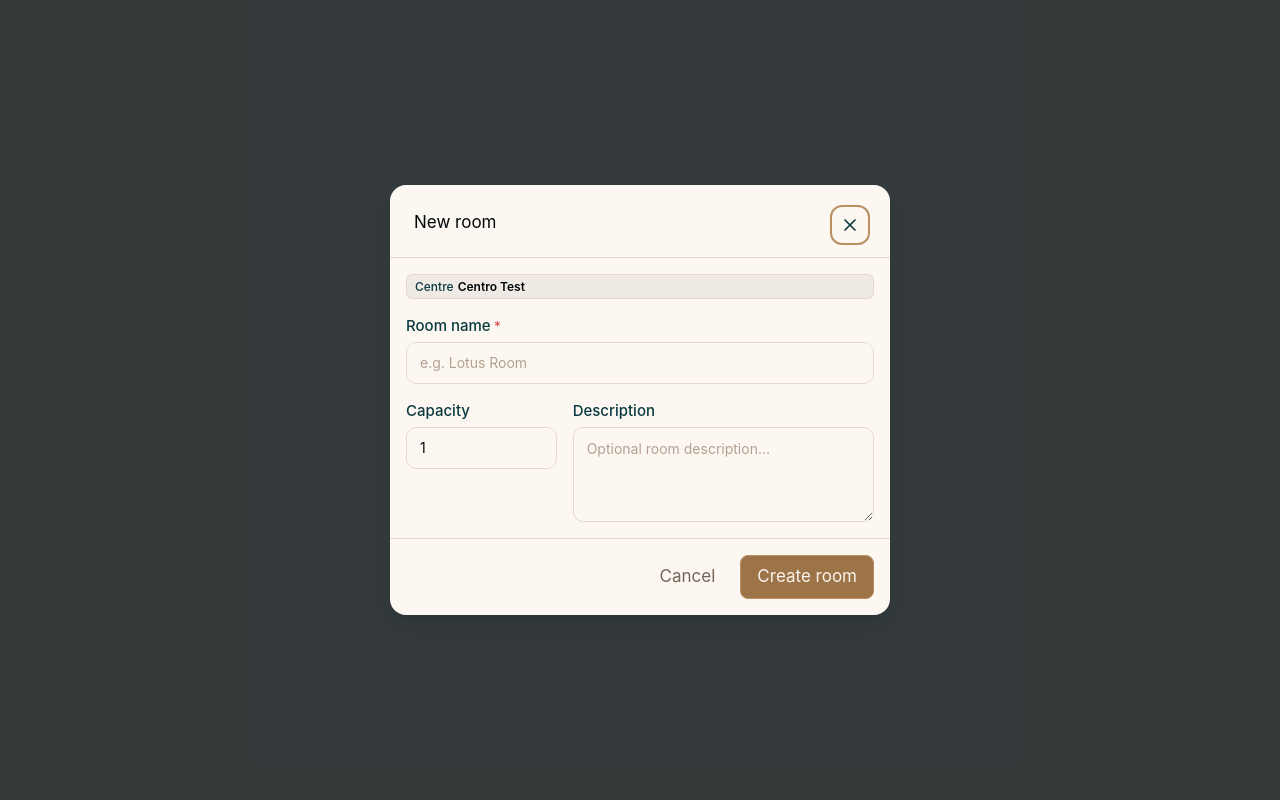
it: SalaModal — create submission › shows error banner when createMutation throws
The image size is (1280, 800).
Type "Room A" into the field labelled "Room name".
click(640, 363); type("Room A")  # box x1=406 y1=342 x2=874 y2=384
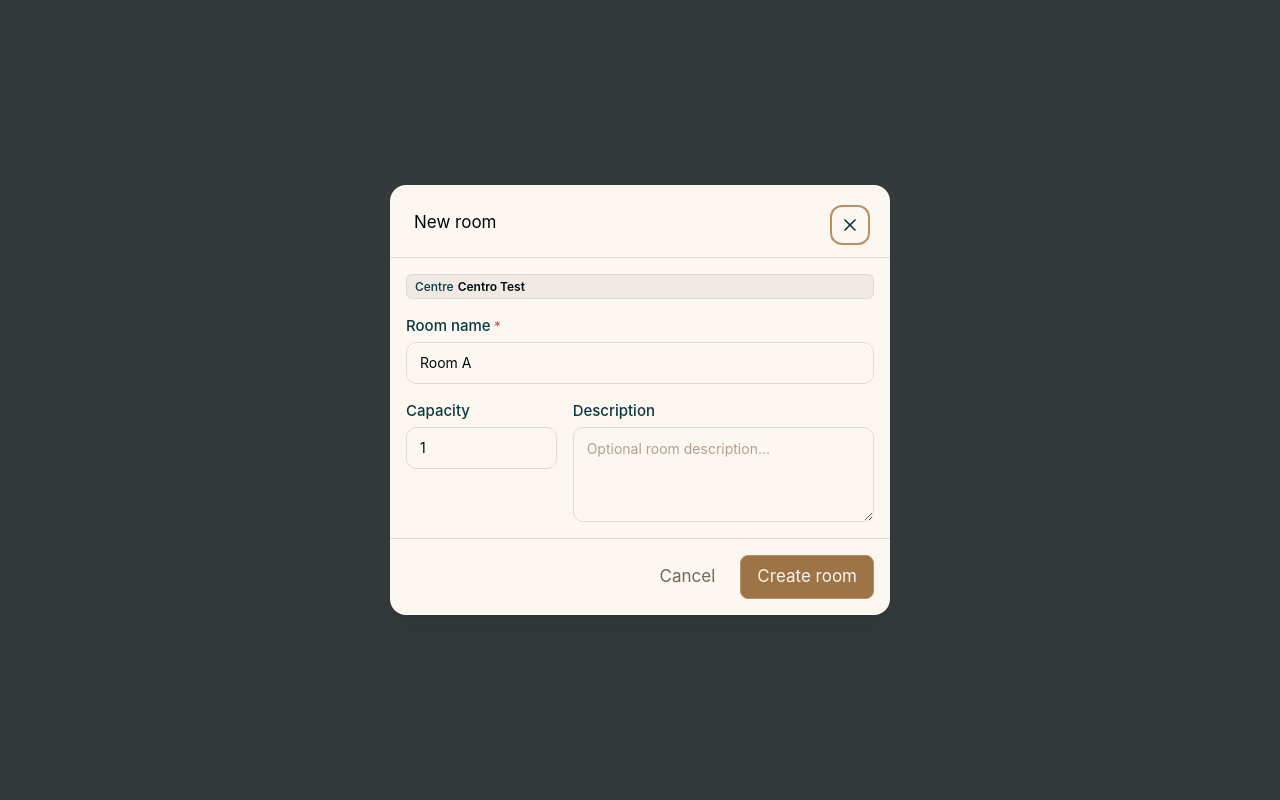
Click the button "Create room".
click(807, 577)  # box x1=740 y1=555 x2=874 y2=599
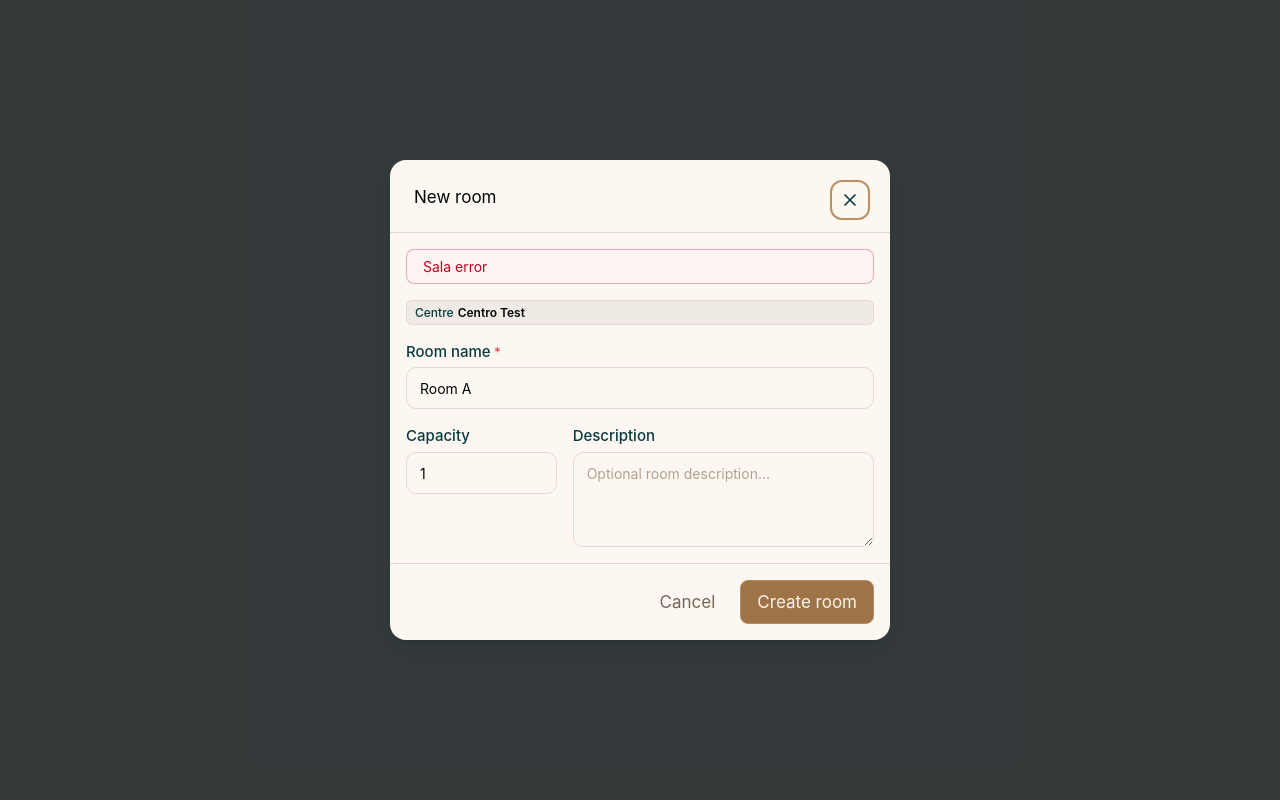
expect the message "Sala error" is shown: met, box x1=406 y1=249 x2=874 y2=284
expect the message reads "Sala error": met, box x1=423 y1=258 x2=487 y2=275
